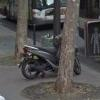Motorcycle: (16, 35, 84, 82)
